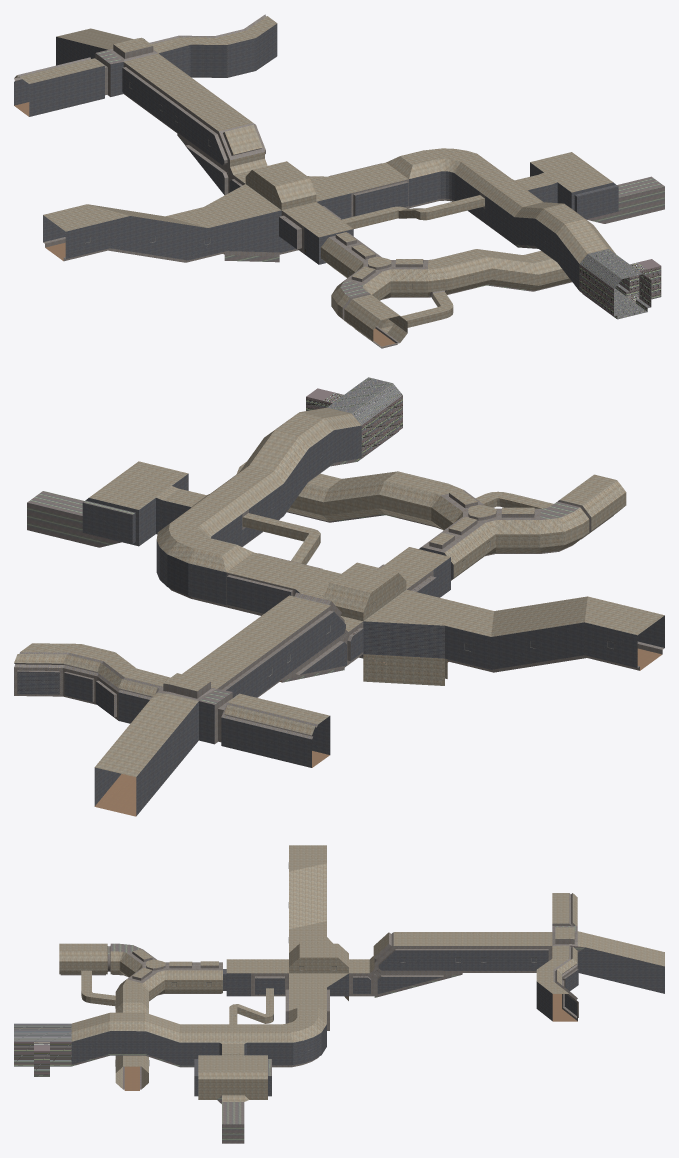
The model's file is map2_bin.fbx.
The picture shows the model from 3 angles, top to bottom: view 1: azimuth 30°, elevation 25°; view 2: azimuth 150°, elevation 25°; view 3: azimuth 270°, elevation 25°; orthographic projection. The views are drawn at different scales.
Parts seen in each view (by area): view 1: Polygon; view 2: Polygon; view 3: Polygon.
Part boxes in pixels (x1=…): Polygon: x1=14, y1=14, x2=664, y2=348; Polygon: x1=14, y1=377, x2=664, y2=816; Polygon: x1=14, y1=845, x2=664, y2=1143.
Bounding box in the file's own units: 89.98 × 14.41 × 109.
